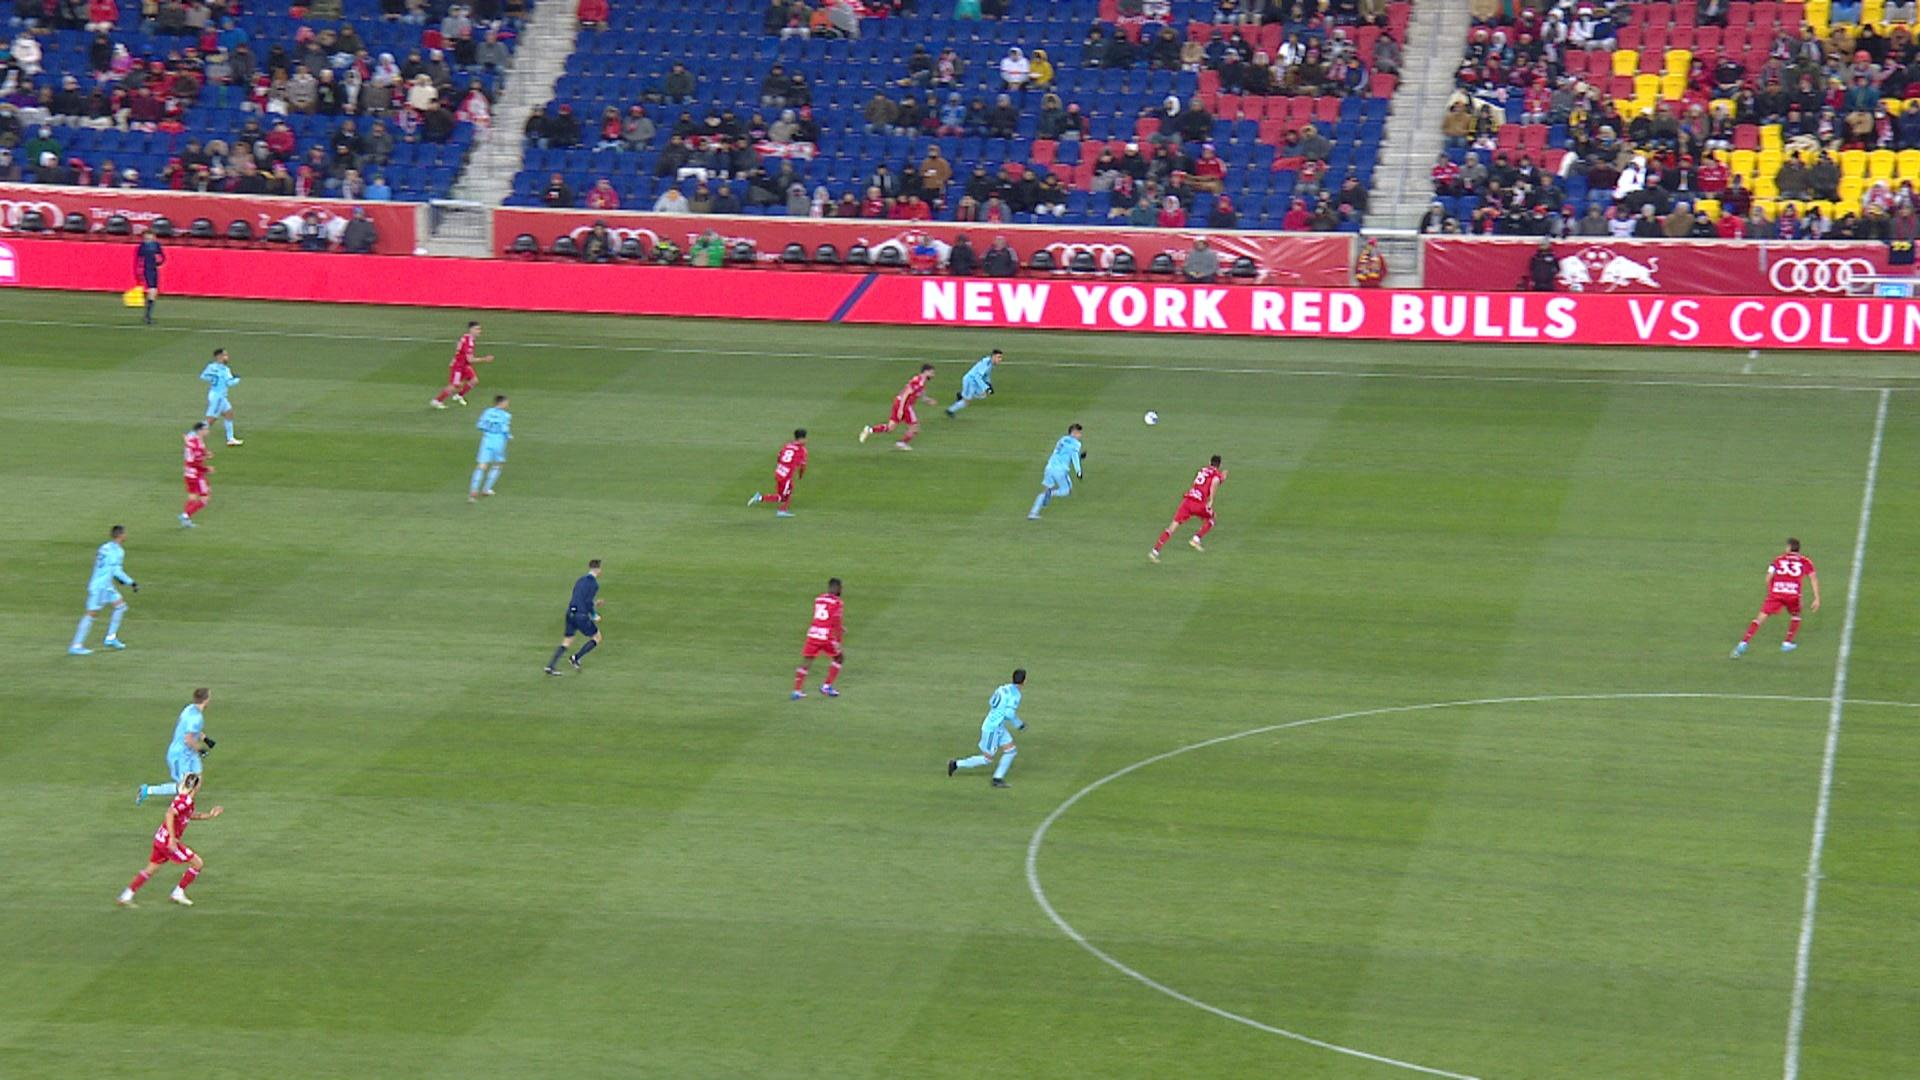football: (1144, 410, 1159, 426)
